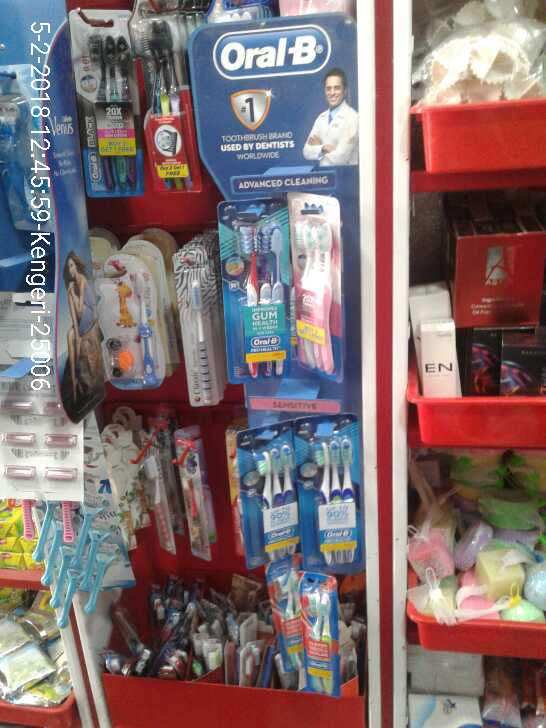oralb: (139, 26, 205, 194), (228, 216, 289, 380), (77, 18, 133, 195), (289, 208, 330, 367), (312, 434, 356, 581), (297, 581, 342, 703), (255, 437, 301, 555)
